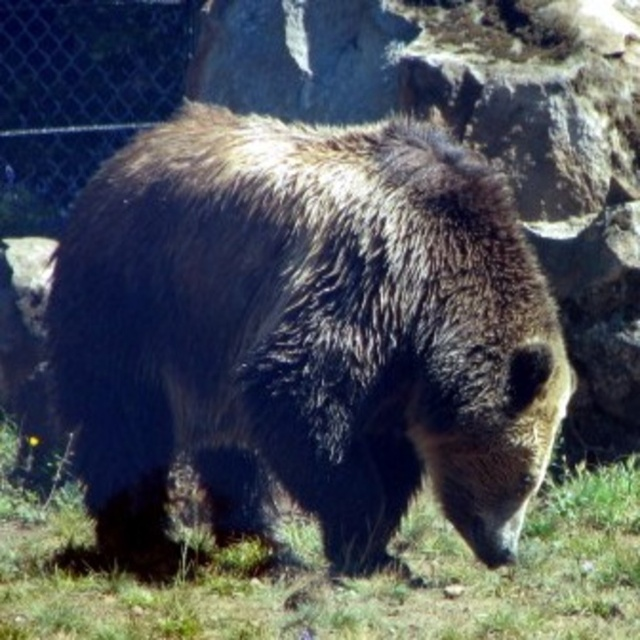Brown bear: (27, 91, 571, 586)
